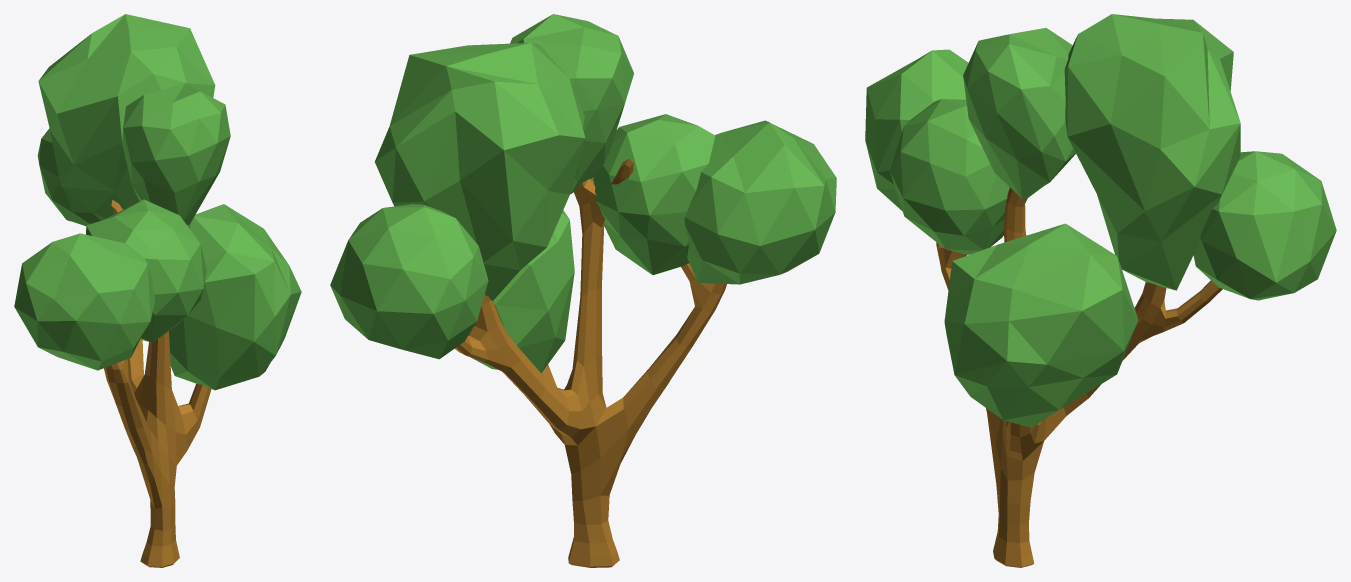
The model's file is Tree_3.fbx.
3 renders of one model, left to right at view 1: azimuth 30°, elevation 25°; view 2: azimuth 150°, elevation 25°; view 3: azimuth 270°, elevation 25°, orthographic. The views are drawn at different scales.
Parts seen in each view (by area): view 1: Tree_3; view 2: Tree_3; view 3: Tree_3.
Part boxes in pixels (x1=…): Tree_3: x1=14, y1=14, x2=301, y2=567; Tree_3: x1=330, y1=14, x2=836, y2=567; Tree_3: x1=865, y1=14, x2=1336, y2=567.
Size of the model in its own units: 752 by 1116 by 864.
